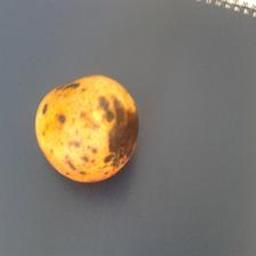Mango Rotten: (34, 69, 147, 188)
